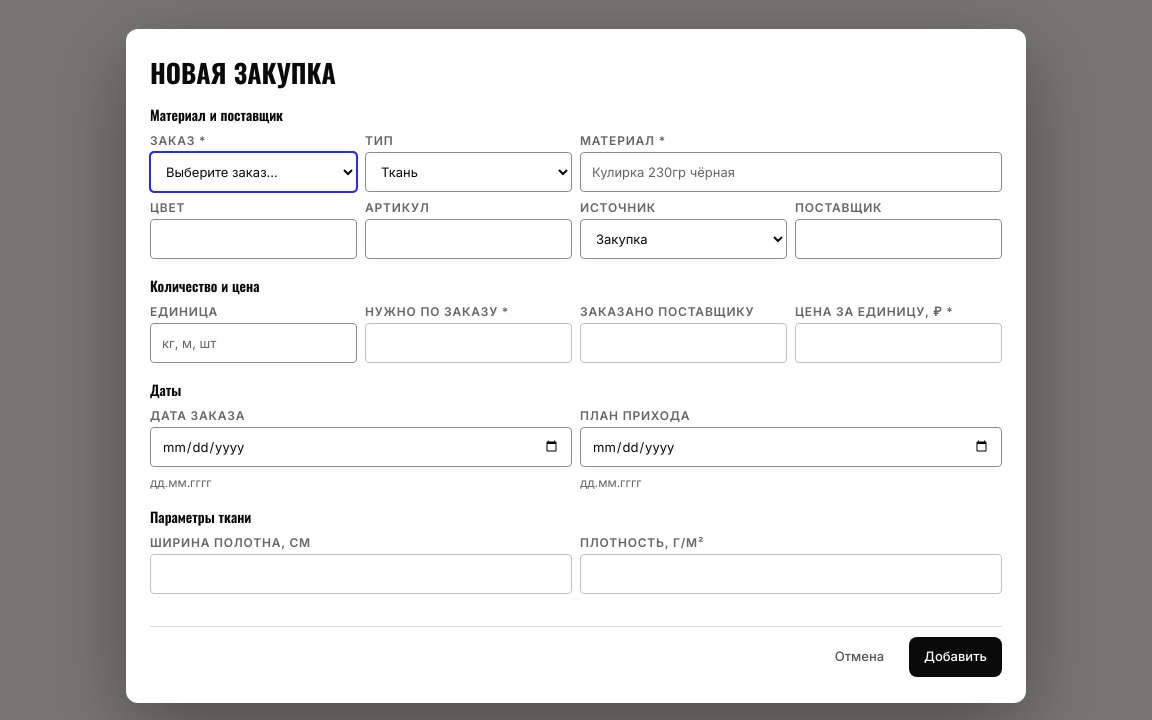
Test case: AddPurchaseModal — подсветка обязательных полей › пустая форма: четыре поля помечены, строка не заводится, фокус на первом
Click the button "Добавить" at (956, 657), box [909,637,1002,677]
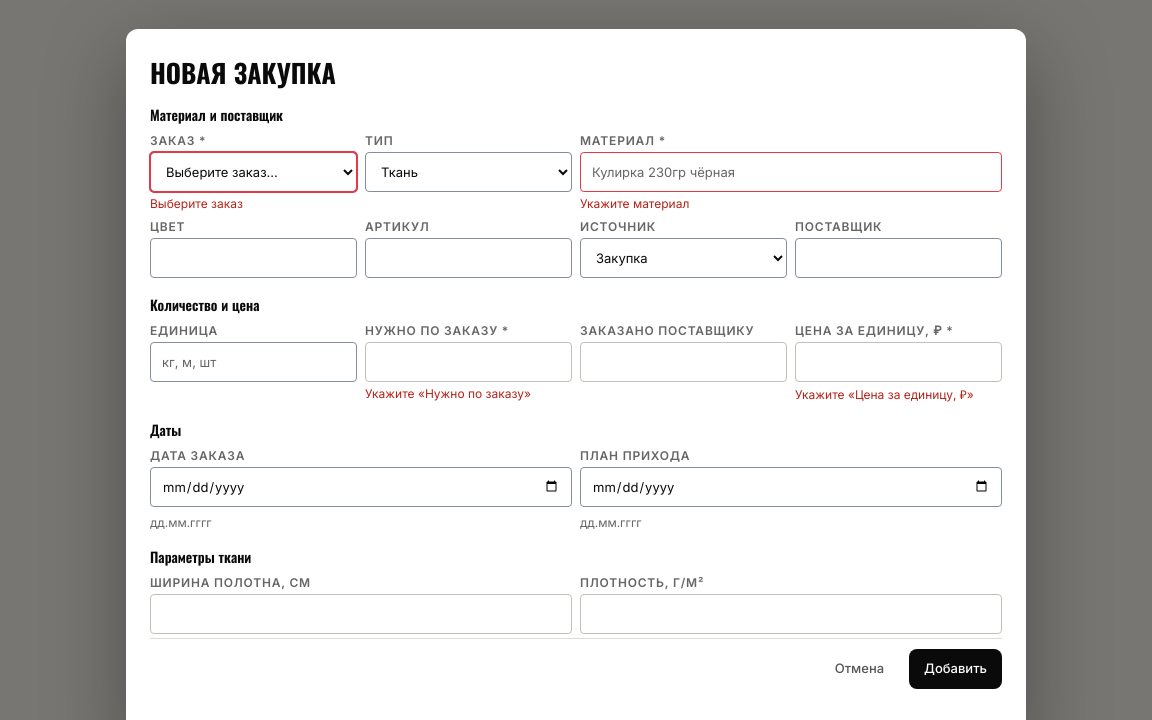
Expected: the text "Выберите заказ" is shown, [150,196,243,211]
Expected: the text "Укажите материал" is shown, [580,196,689,211]
Expected: the text "Укажите «Нужно по заказу»" is shown, [365,386,531,401]
